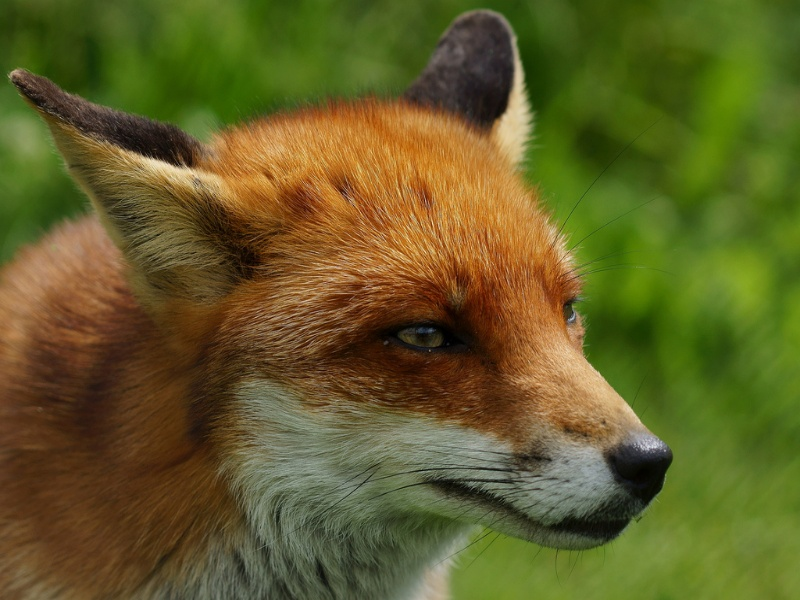fox: (12, 6, 671, 600)
